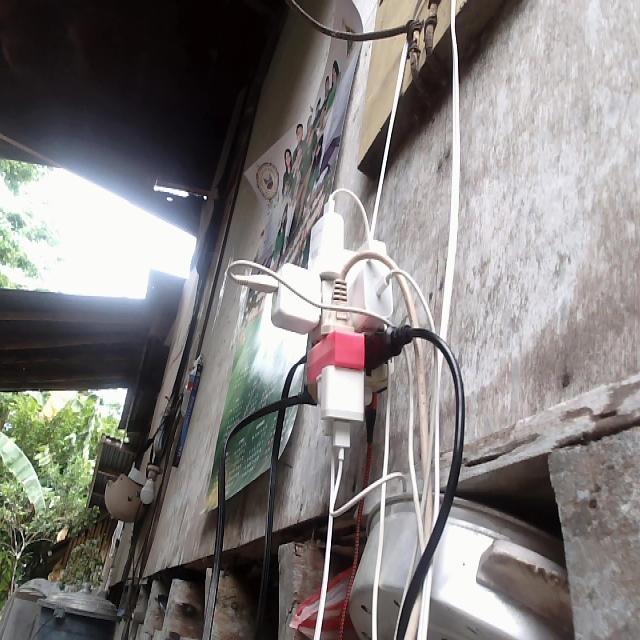-: (224, 184, 424, 459)
